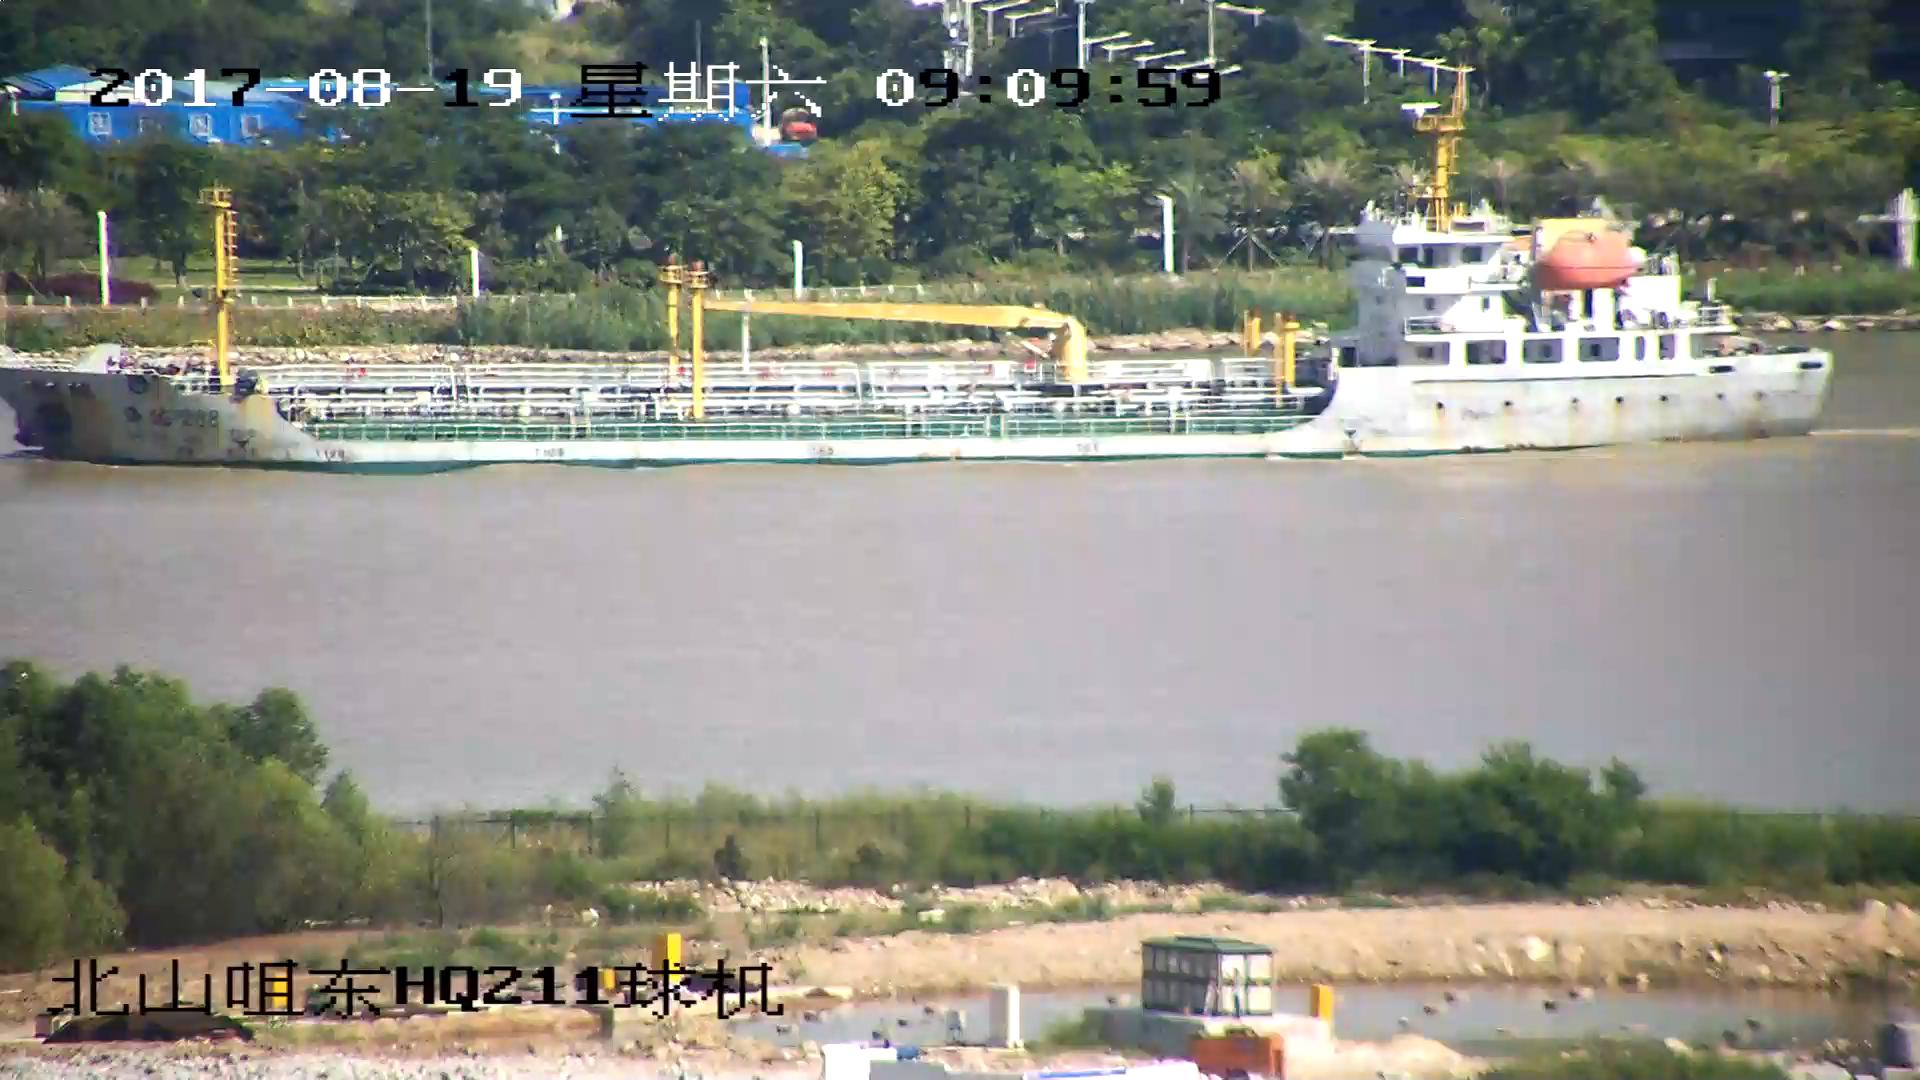general cargo ship: (1, 122, 1837, 468)
